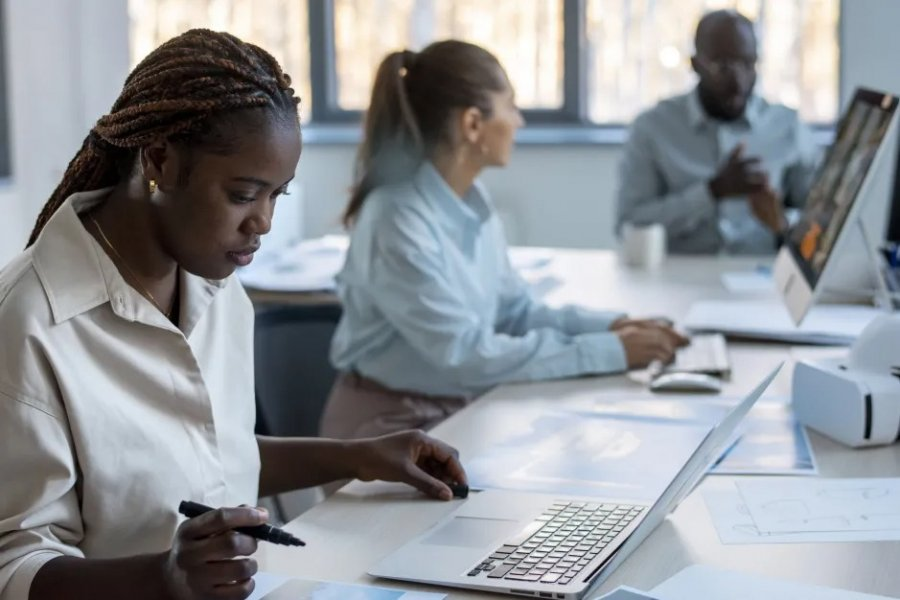no-gloves: (163, 497, 270, 600), (353, 421, 470, 501), (613, 318, 679, 369), (709, 138, 761, 202)
